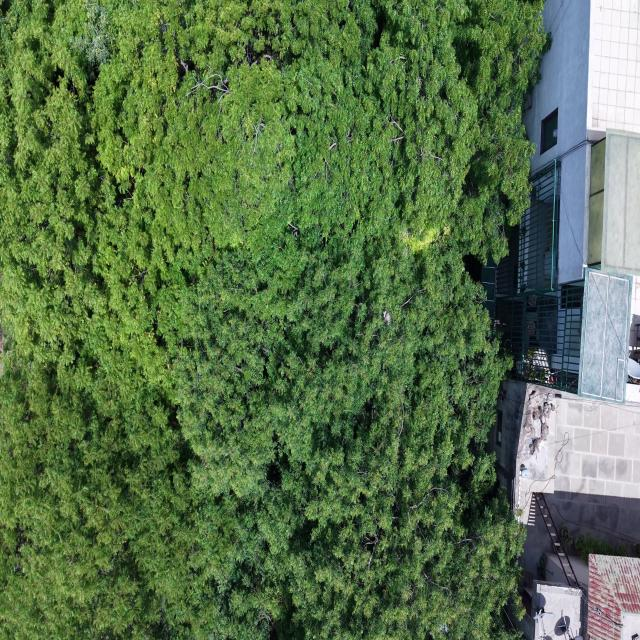ROOFTOP_BUILDING: (481, 0, 639, 638), (482, 0, 639, 403), (495, 131, 639, 403), (490, 380, 639, 639), (488, 380, 639, 543), (519, 554, 639, 639), (588, 555, 639, 639), (533, 581, 583, 639)
VEGETATION_TREE: (0, 0, 545, 639), (575, 532, 627, 562)
